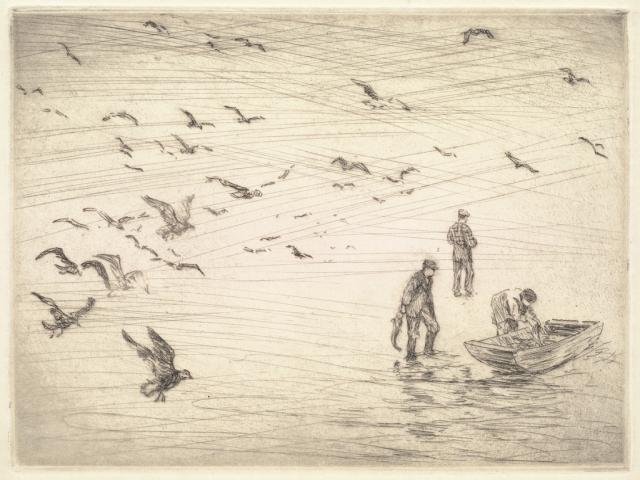Bird: (120, 325, 192, 403), (29, 246, 115, 283), (32, 290, 102, 334), (205, 165, 289, 200), (95, 246, 150, 298), (143, 192, 198, 240), (81, 256, 135, 299), (350, 78, 419, 110), (84, 210, 150, 234), (148, 255, 210, 277), (219, 99, 266, 126), (119, 236, 170, 260), (376, 161, 422, 184), (502, 147, 539, 174), (176, 131, 216, 155), (329, 153, 372, 174), (457, 25, 499, 45), (102, 107, 144, 126), (558, 66, 594, 88), (178, 105, 212, 126), (56, 38, 79, 66), (577, 137, 606, 159), (154, 137, 178, 159), (233, 37, 265, 53), (202, 204, 234, 219), (59, 218, 95, 231), (426, 144, 461, 157), (286, 244, 314, 260), (204, 38, 228, 56), (243, 241, 273, 255), (11, 85, 43, 98), (146, 19, 168, 35), (332, 179, 354, 195), (42, 106, 66, 120), (255, 233, 281, 245), (113, 136, 132, 152), (121, 164, 144, 174), (118, 148, 134, 161)
